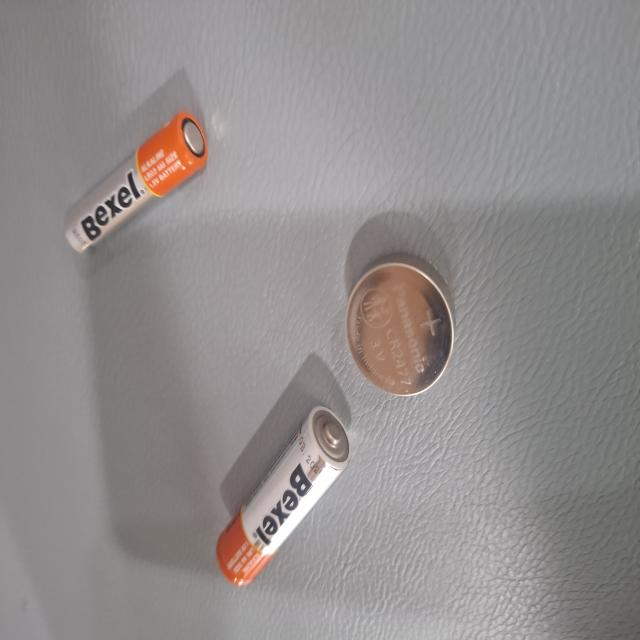AA: (288, 54, 422, 234)
AAA: (431, 389, 572, 528)
COIN: (185, 242, 295, 384)
